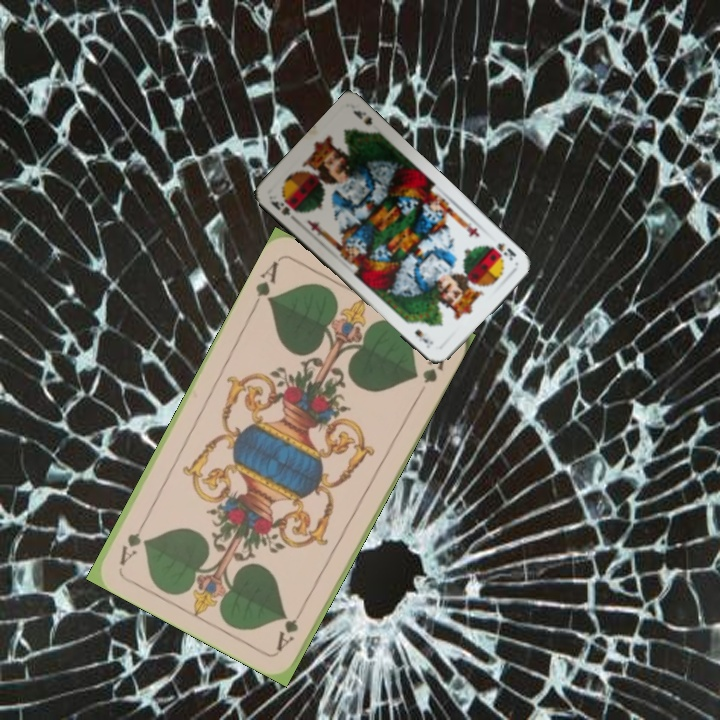GA: (272, 600, 309, 654), (248, 257, 282, 311)
SK: (266, 196, 300, 225), (493, 239, 519, 263)
